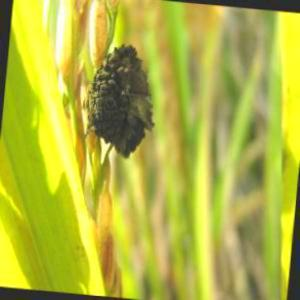Leaf_Scald: (92, 50, 149, 150)
